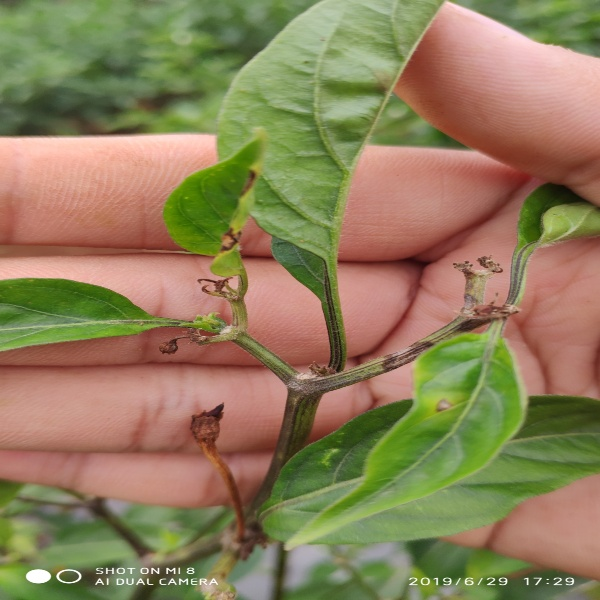Anthrax: (165, 129, 265, 273), (424, 382, 464, 425)
blight: (241, 281, 431, 562), (184, 402, 250, 535), (157, 275, 252, 359), (439, 251, 524, 327)
